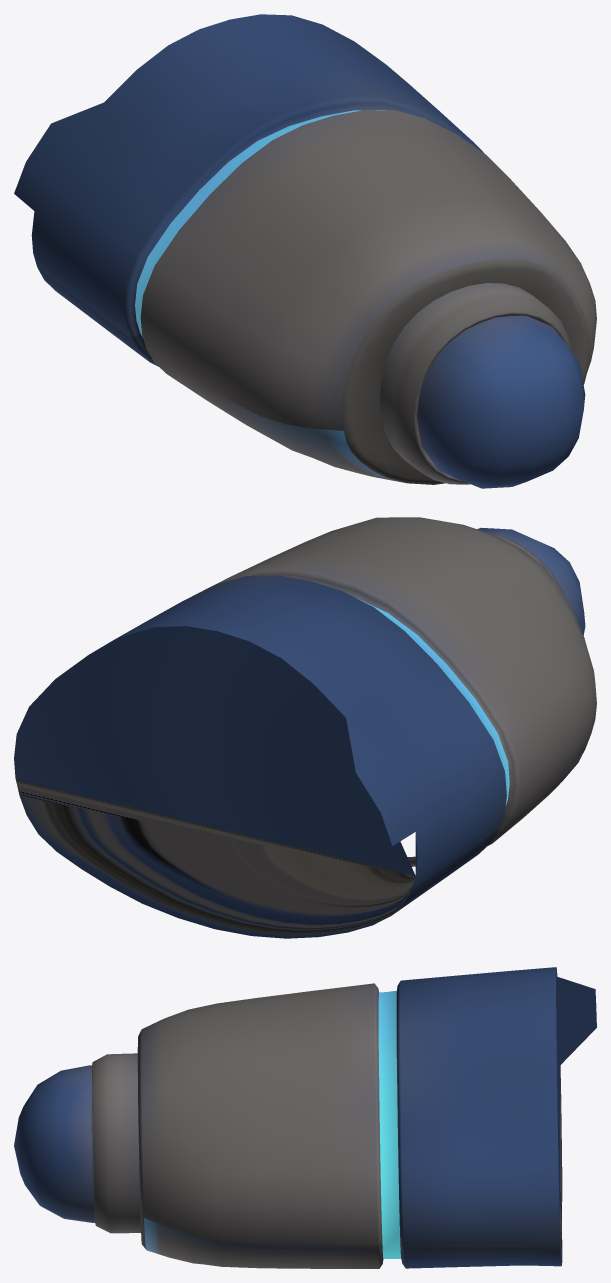
Rendered from quest-blue-forearm-left.glb.
3 views of the same model, one above another, from view 1: azimuth 30°, elevation 25°; view 2: azimuth 150°, elevation 25°; view 3: azimuth 270°, elevation 25° (orthographic). The views are drawn at different scales.
Parts seen in each view (by area): view 1: quest-blue-forearm-left; view 2: quest-blue-forearm-left; view 3: quest-blue-forearm-left.
Part boxes in pixels (x1=…): quest-blue-forearm-left: x1=14, y1=14, x2=596, y2=488; quest-blue-forearm-left: x1=14, y1=517, x2=596, y2=938; quest-blue-forearm-left: x1=14, y1=967, x2=596, y2=1268.
Size of the model in its own units: 0.1744 by 0.1282 by 0.2575.
2 materials, 2 textured.
